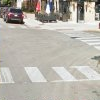crosswalk: (0, 65, 99, 84), (63, 31, 100, 52)
